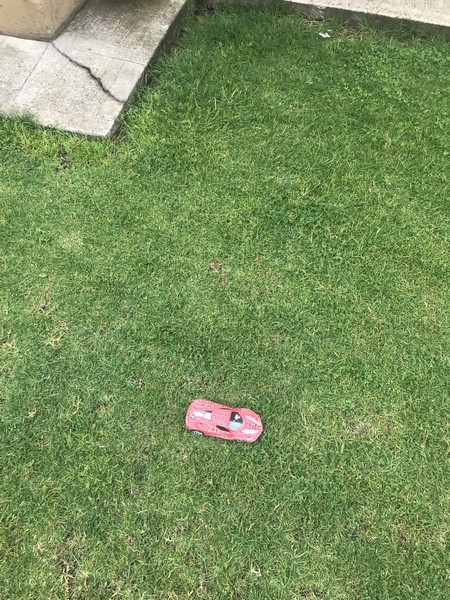RC: (184, 398, 264, 444)
